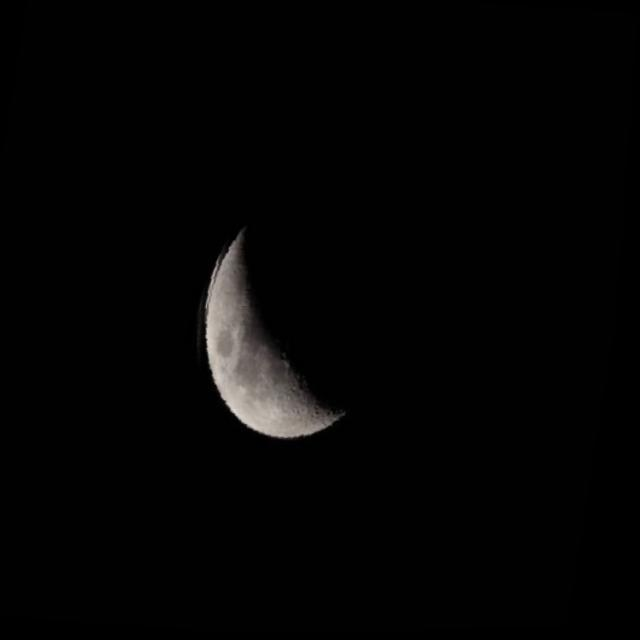moon: (174, 209, 429, 463)
